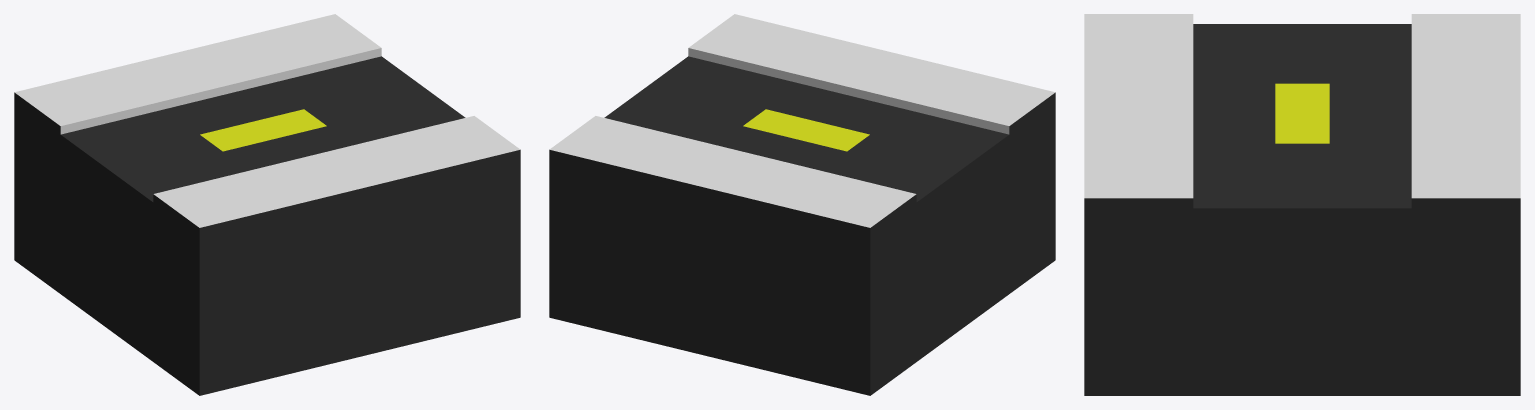
The model's file is road-path.glb.
3 views of the same model, side by side, from view 1: azimuth 30°, elevation 25°; view 2: azimuth 150°, elevation 25°; view 3: azimuth 270°, elevation 25° (orthographic). The views are drawn at different scales.
Parts seen in each view (by area): view 1: road-path; view 2: road-path; view 3: road-path.
Boxes of the visible parts, box(x1,y1,x2,y2) form: road-path: box(14, 14, 520, 395); road-path: box(549, 14, 1055, 395); road-path: box(1084, 14, 1520, 395).
Size of the model in its own units: 2 by 1 by 2.
